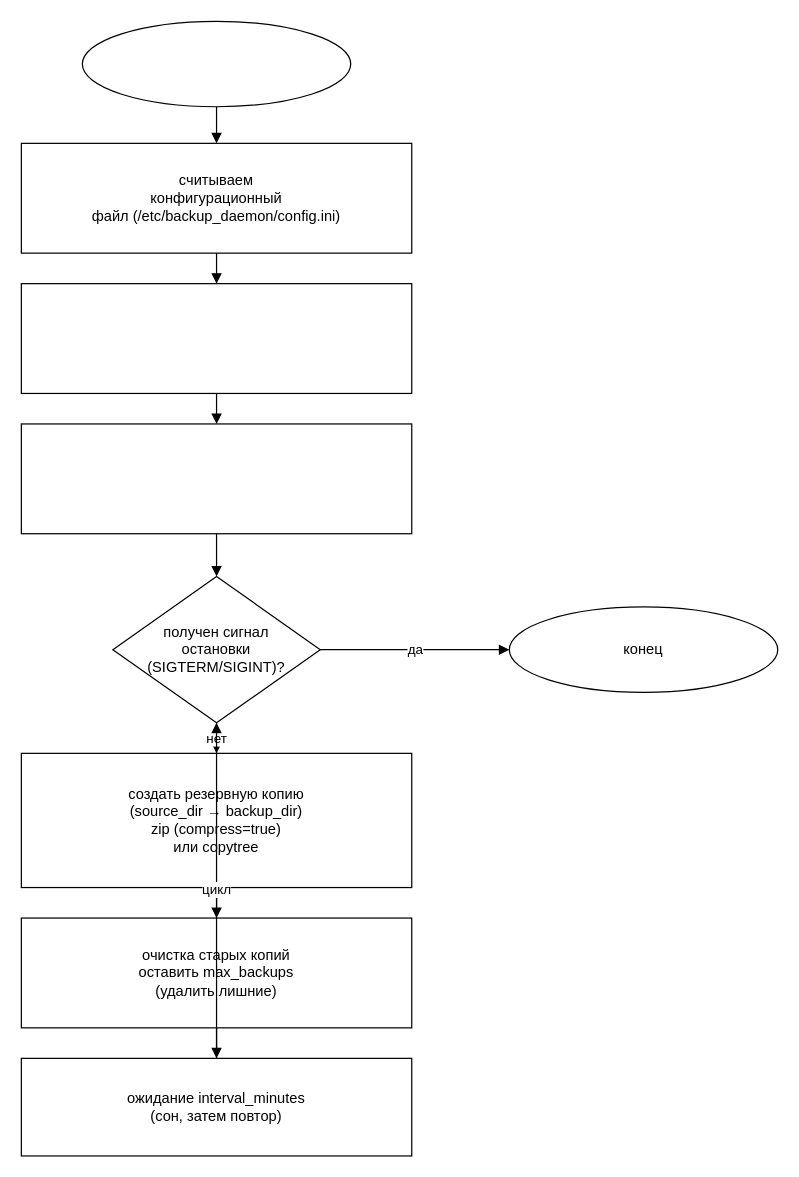
Some shapes in this 799 by 1177 pixel diagram are drawn without their labels. Here are the shapes that lost their labels. From the top down, the centre of each, then its label:
the point at 216,63: начало
the point at 216,337: настраиваем логирование (создаём/открываем /var/log/backup_daemon.log)
the point at 216,478: запуск в фоне и создание PID-файла (/var/run/backup_daemon.pid)
